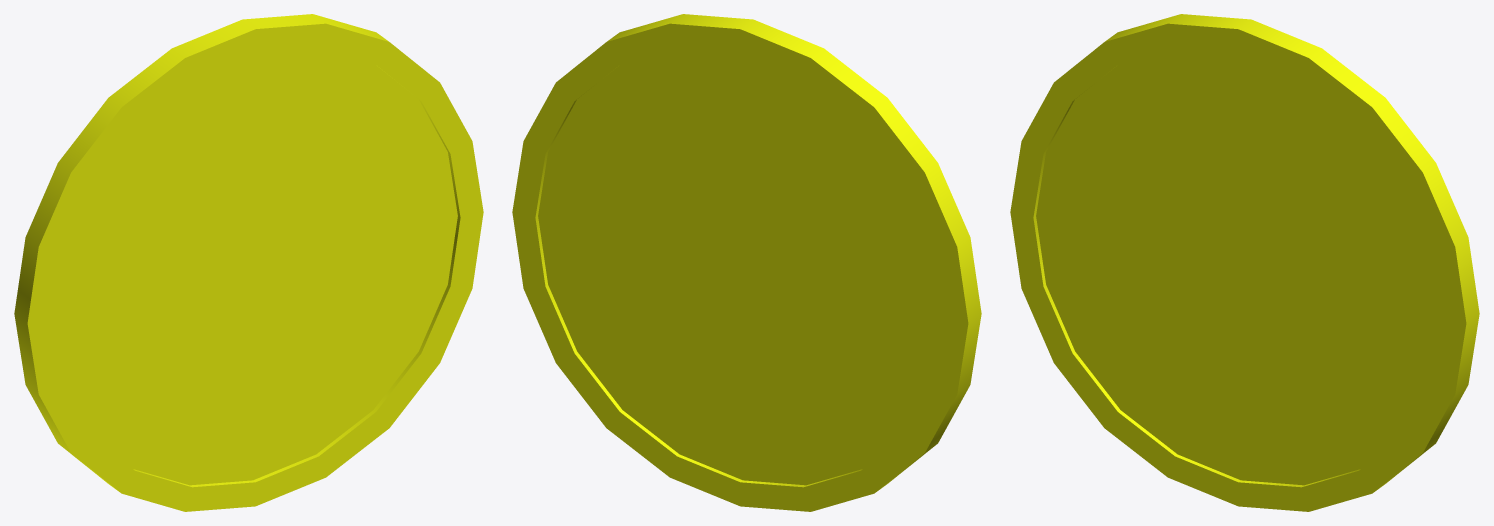
Rendered from coin.dae.
3 views of the same model, side by side, from view 1: azimuth 30°, elevation 25°; view 2: azimuth 150°, elevation 25°; view 3: azimuth 330°, elevation 25° (orthographic).
Visible parts, largest first — view 1: pCylinder1; view 2: pCylinder1; view 3: pCylinder1.
Boxes of the visible parts, x1,y1,x2,y2 form: pCylinder1: [14, 14, 483, 511]; pCylinder1: [512, 14, 981, 511]; pCylinder1: [1010, 14, 1479, 511].
Bounding box in the file's own units: 0.02 × 0.001 × 0.02.
Materials: 1 (1 with a texture image).
